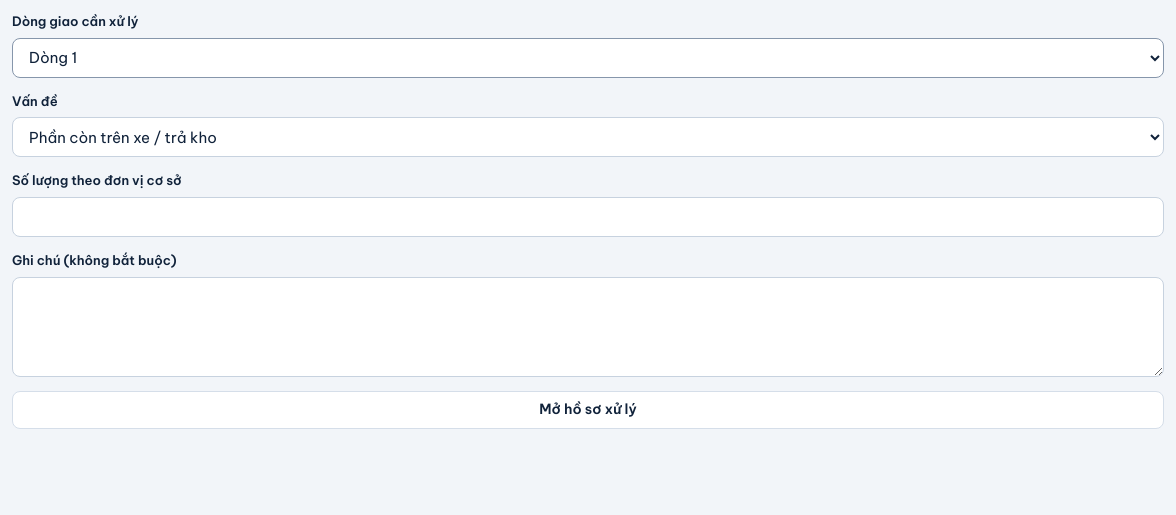
clears the completed draft and creates a new intent only after success
Select "Dòng 2" in the dropdown labelled "Dòng giao cần xử lý": (588, 58) 12,38 -> 1164,78
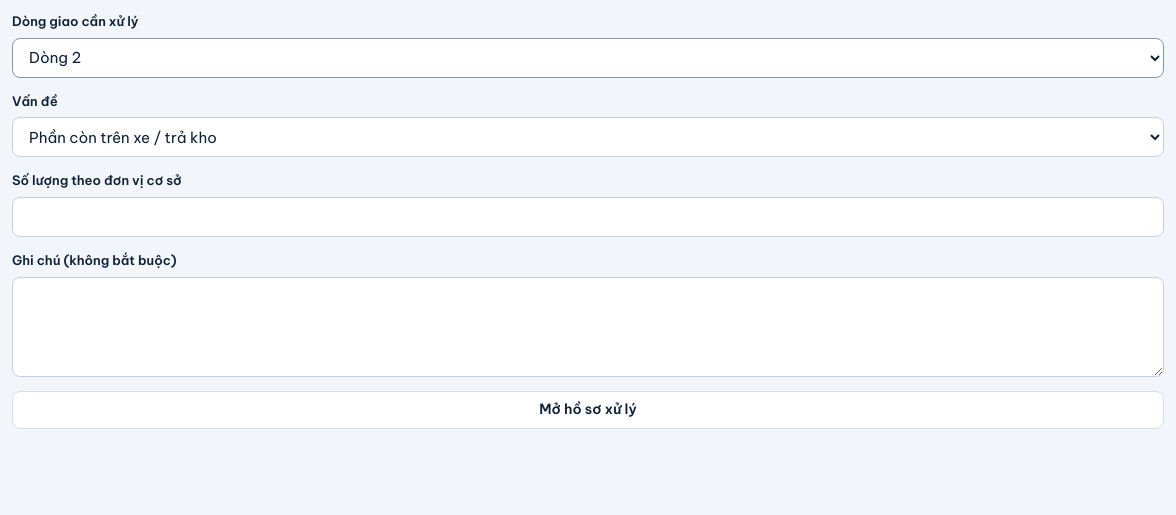
Select "Khách trả sau xác minh" in the dropdown labelled "Vấn đề": (588, 137) 12,117 -> 1164,157
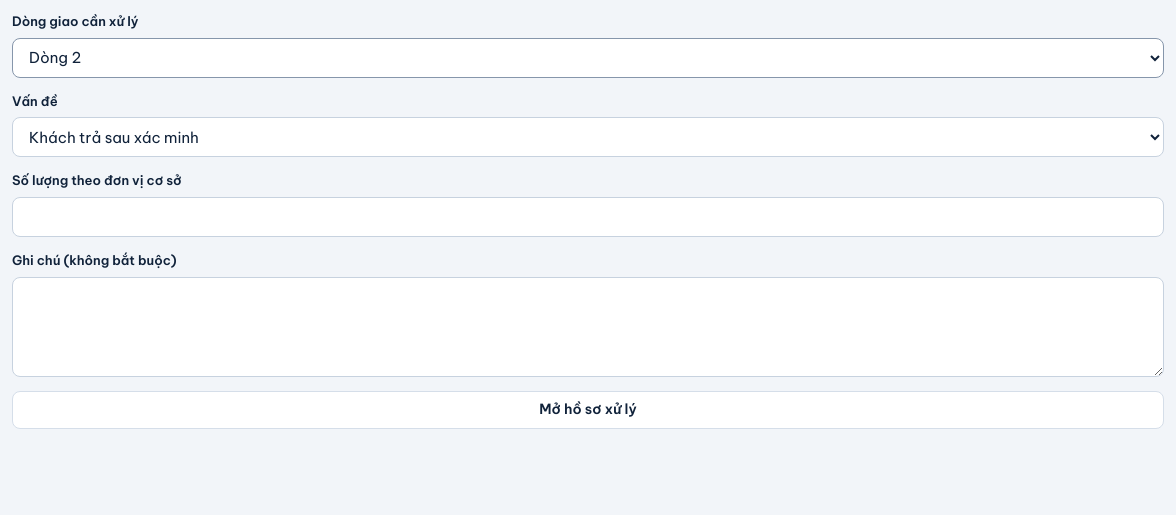
In the field labelled "Số lượng theo đơn vị cơ sở": (588, 217) 12,196 -> 1164,237, type "3"
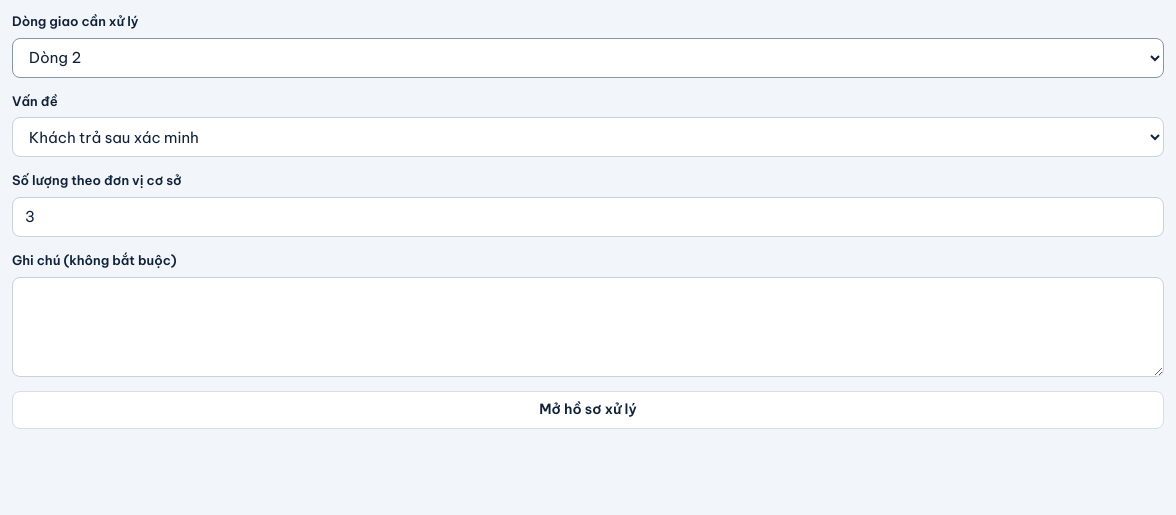
In the text box labelled "Ghi chú (không bắt buộc)": (588, 326) 12,276 -> 1164,376, type "QA return reason"
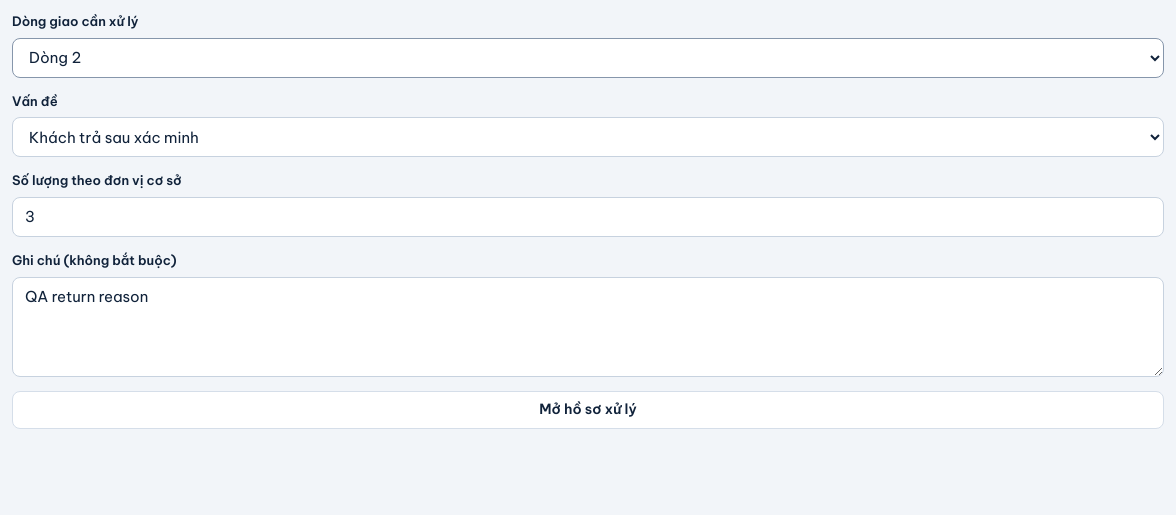
Submit the form named "Mở hồ sơ xử lý"
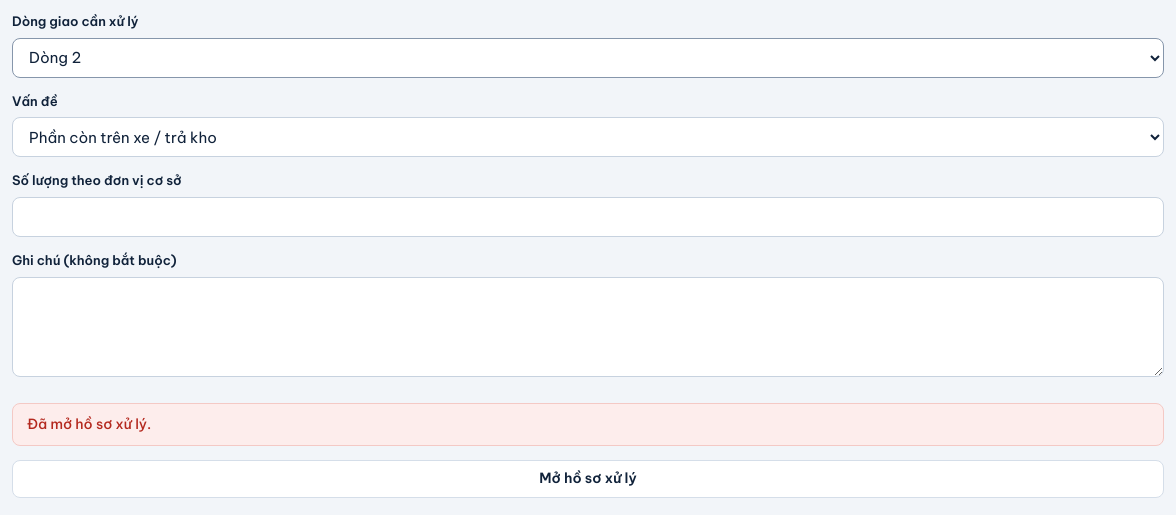
Now the message shows "Đã mở hồ sơ", box 27,414 -> 151,432
Now the field labelled "Số lượng theo đơn vị cơ sở" is empty, box 12,196 -> 1164,237
Now the text box labelled "Ghi chú (không bắt buộc)" is empty, box 12,276 -> 1164,376
